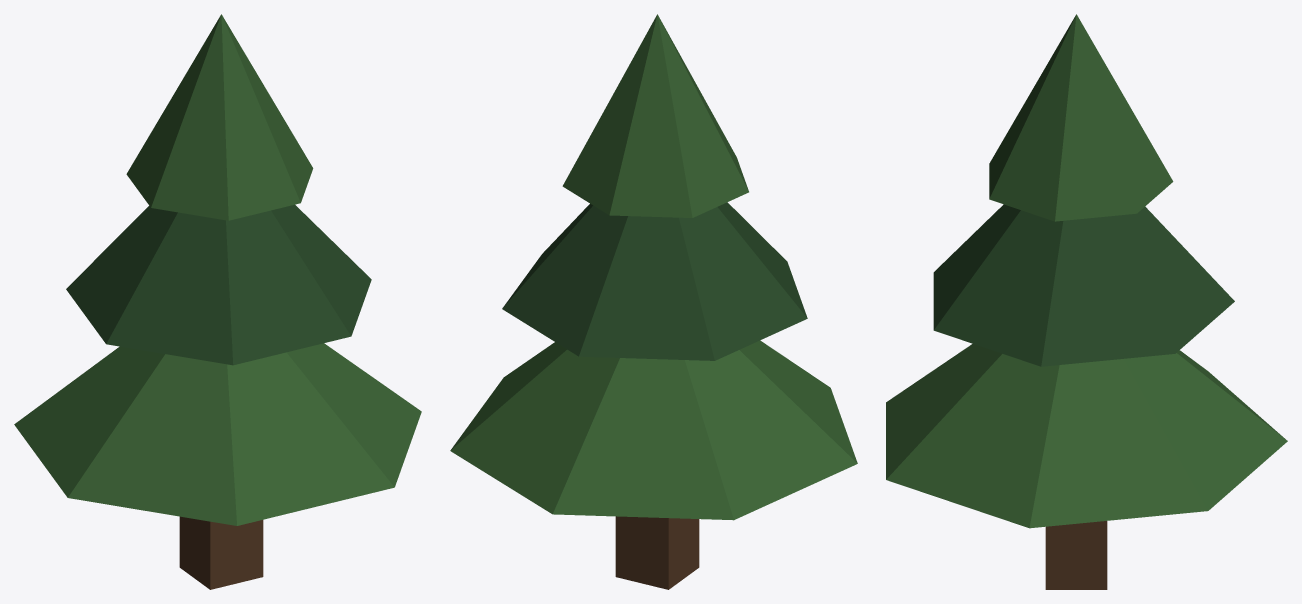
File: tree_pine.glb
The picture shows the model from 3 angles, left to right: view 1: azimuth 30°, elevation 25°; view 2: azimuth 150°, elevation 25°; view 3: azimuth 270°, elevation 25°; orthographic projection.
Visible parts, largest first — view 1: tree_pine; view 2: tree_pine; view 3: tree_pine.
Part boxes in pixels (x1,y1,x2,y2): tree_pine: [14, 14, 421, 589]; tree_pine: [450, 14, 857, 589]; tree_pine: [886, 14, 1287, 589].
Size of the model in its own units: 0.9359 by 1.41 by 0.9125.
1 material, 1 textured.
